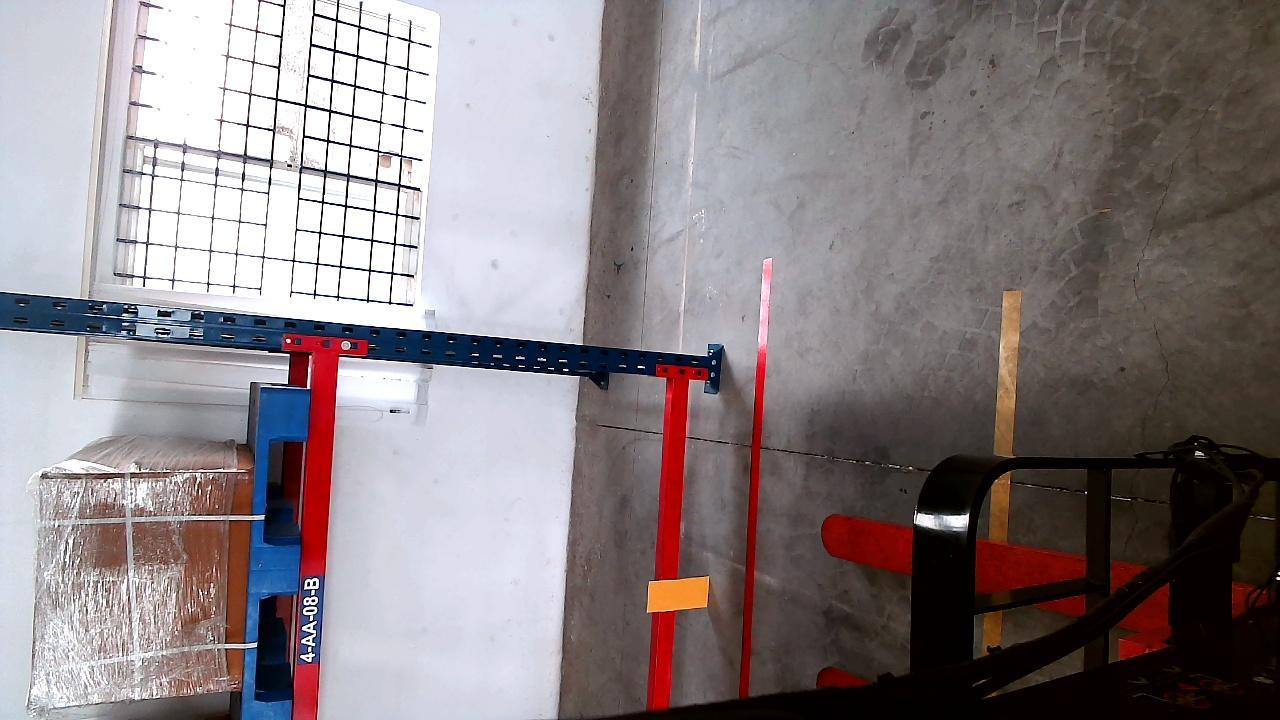red_line: (737, 256, 773, 698)
yellow_line: (988, 288, 1019, 539)
